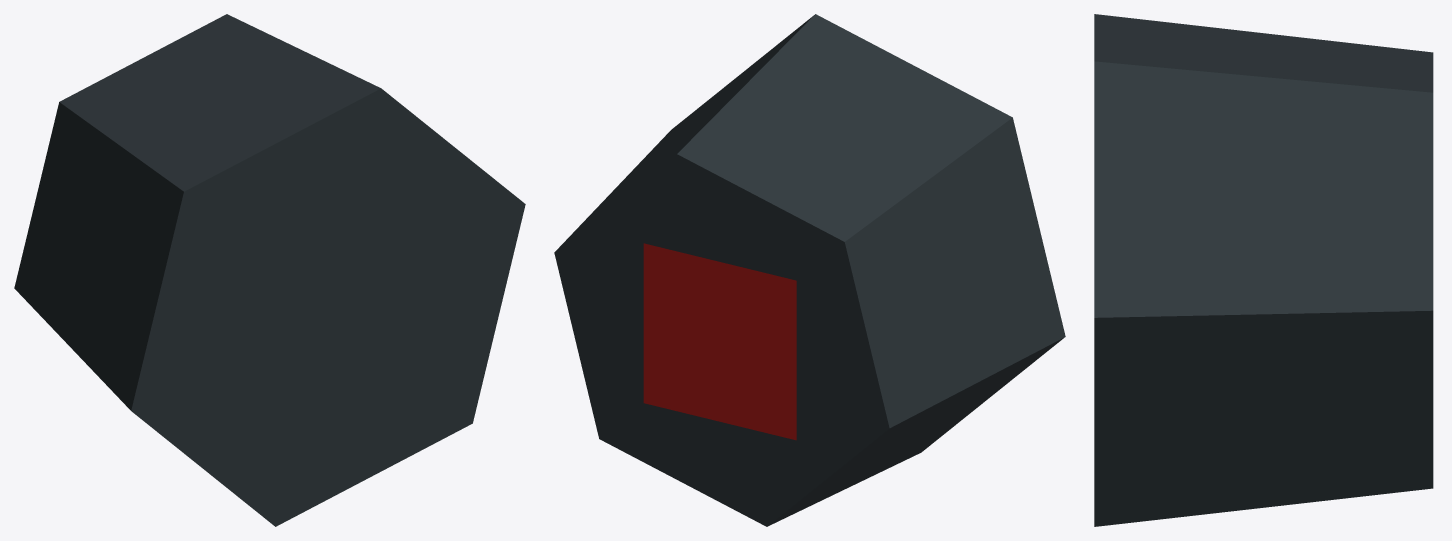
The picture shows the model from 3 angles, left to right: view 1: azimuth 30°, elevation 25°; view 2: azimuth 150°, elevation 25°; view 3: azimuth 270°, elevation 25°; orthographic projection. The views are drawn at different scales.
Parts seen in each view (by area): view 1: mount; view 2: mount; view 3: mount.
Boxes of the visible parts, x1,y1,x2,y2 form: mount: [14, 14, 525, 526]; mount: [554, 14, 1065, 526]; mount: [1094, 14, 1433, 526].
Bounding box in the file's own units: 3.77 × 3.77 × 2.45.
